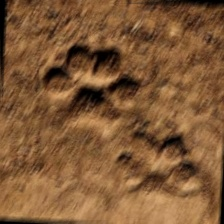raccoon: (31, 18, 210, 171)
